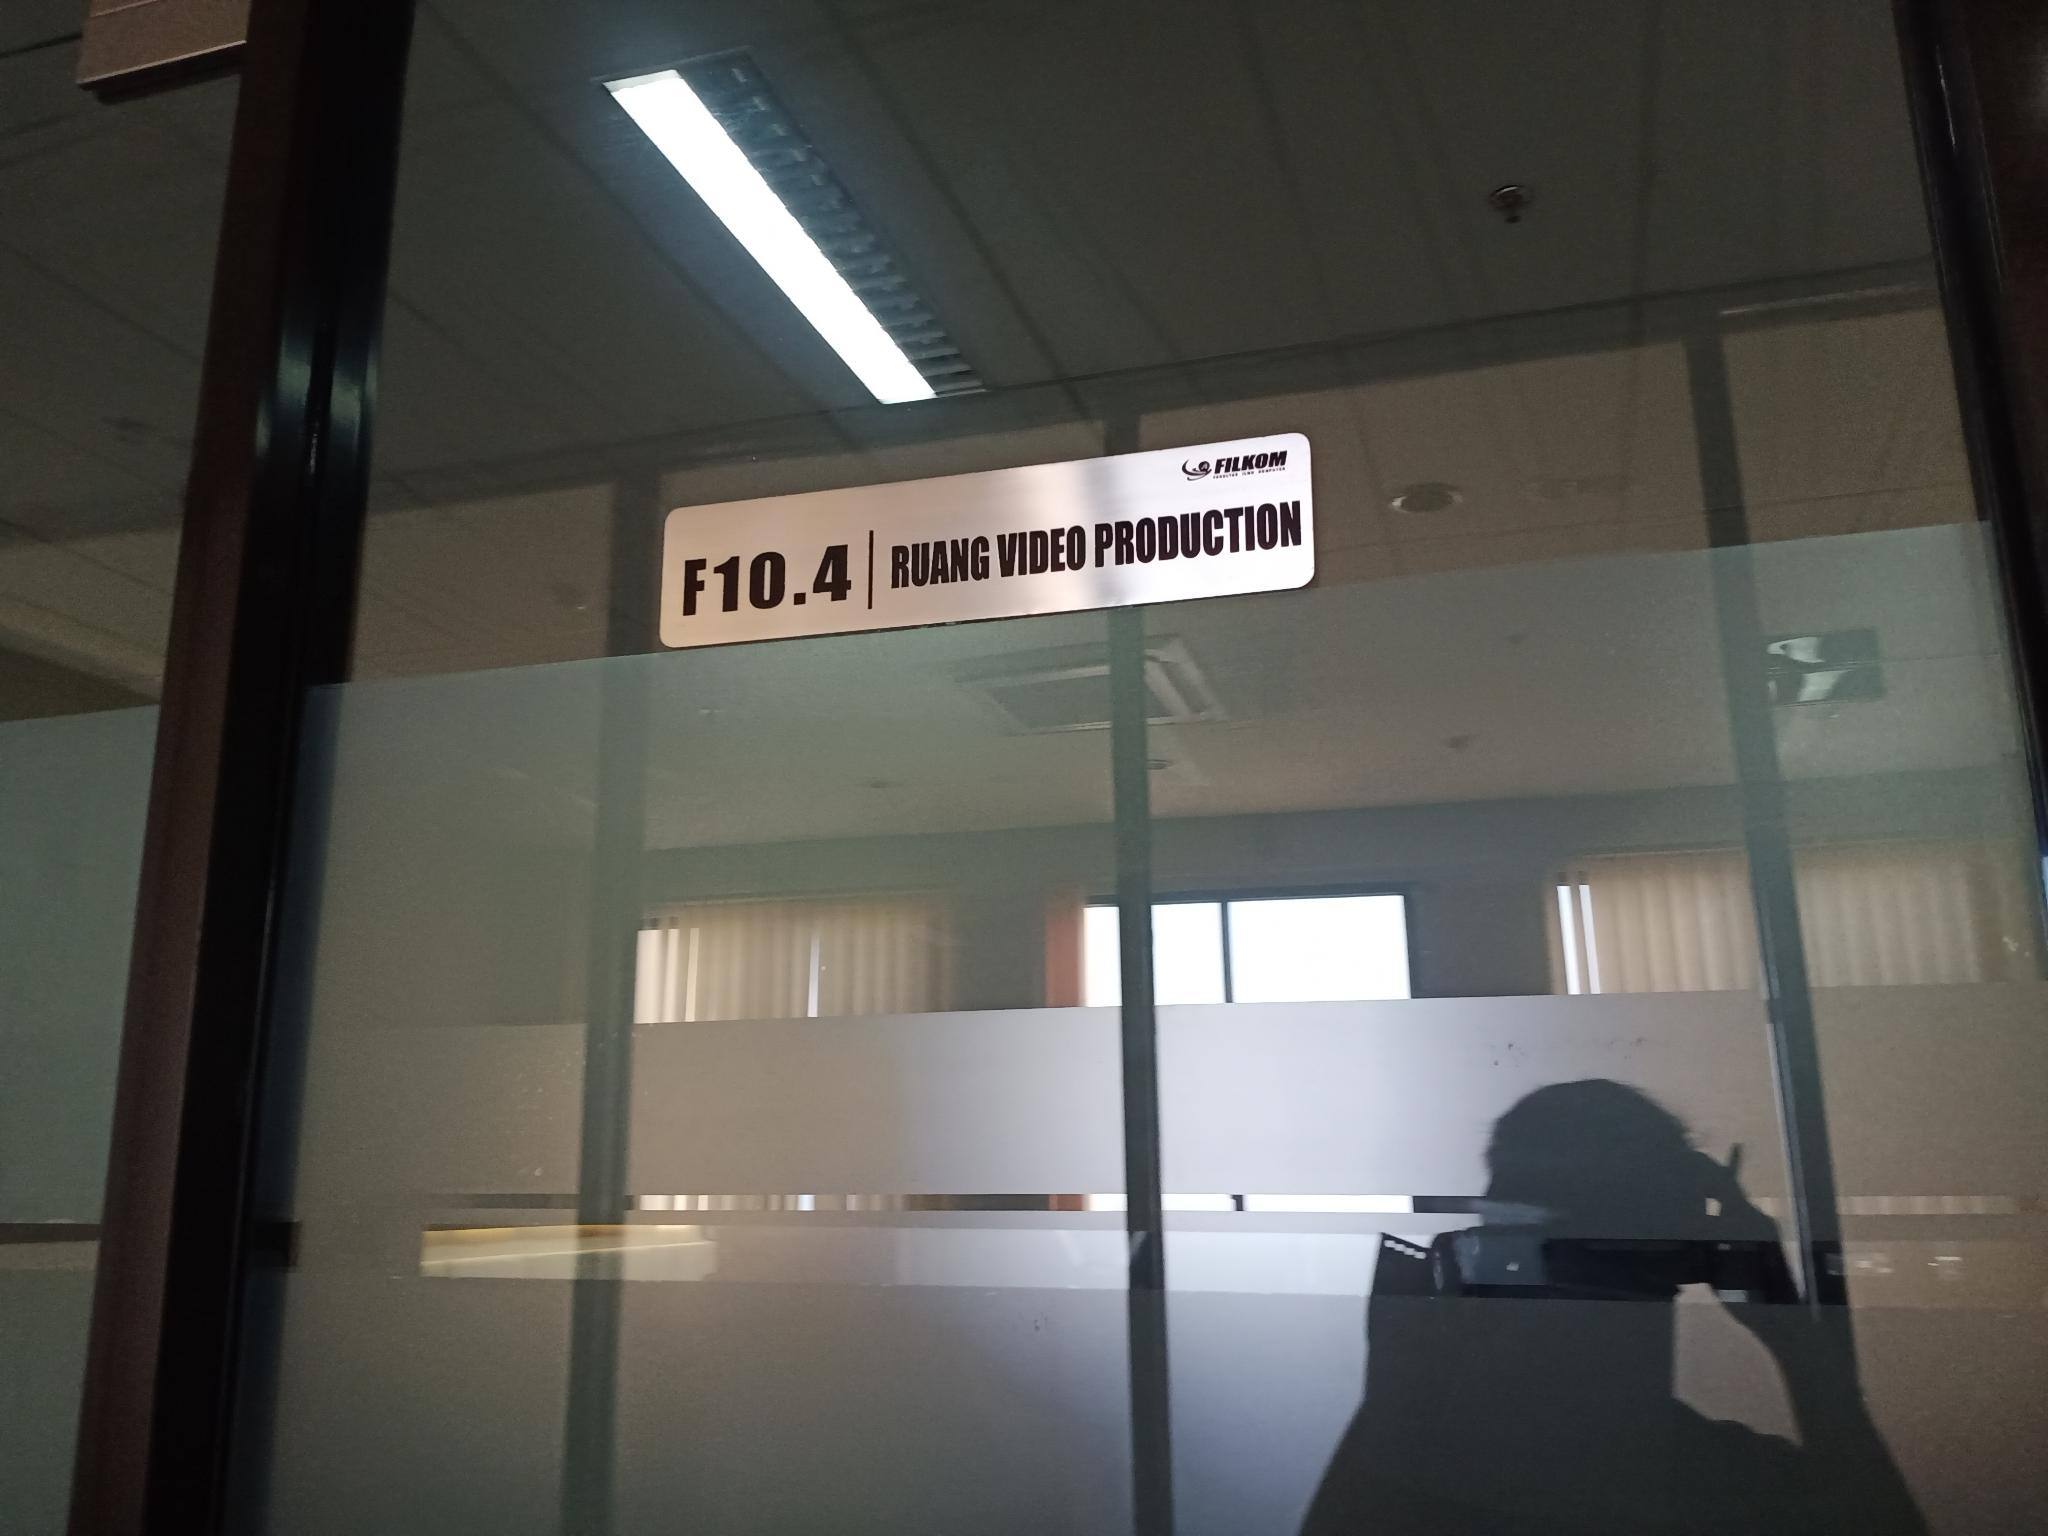plate: (663, 432, 1322, 650)
